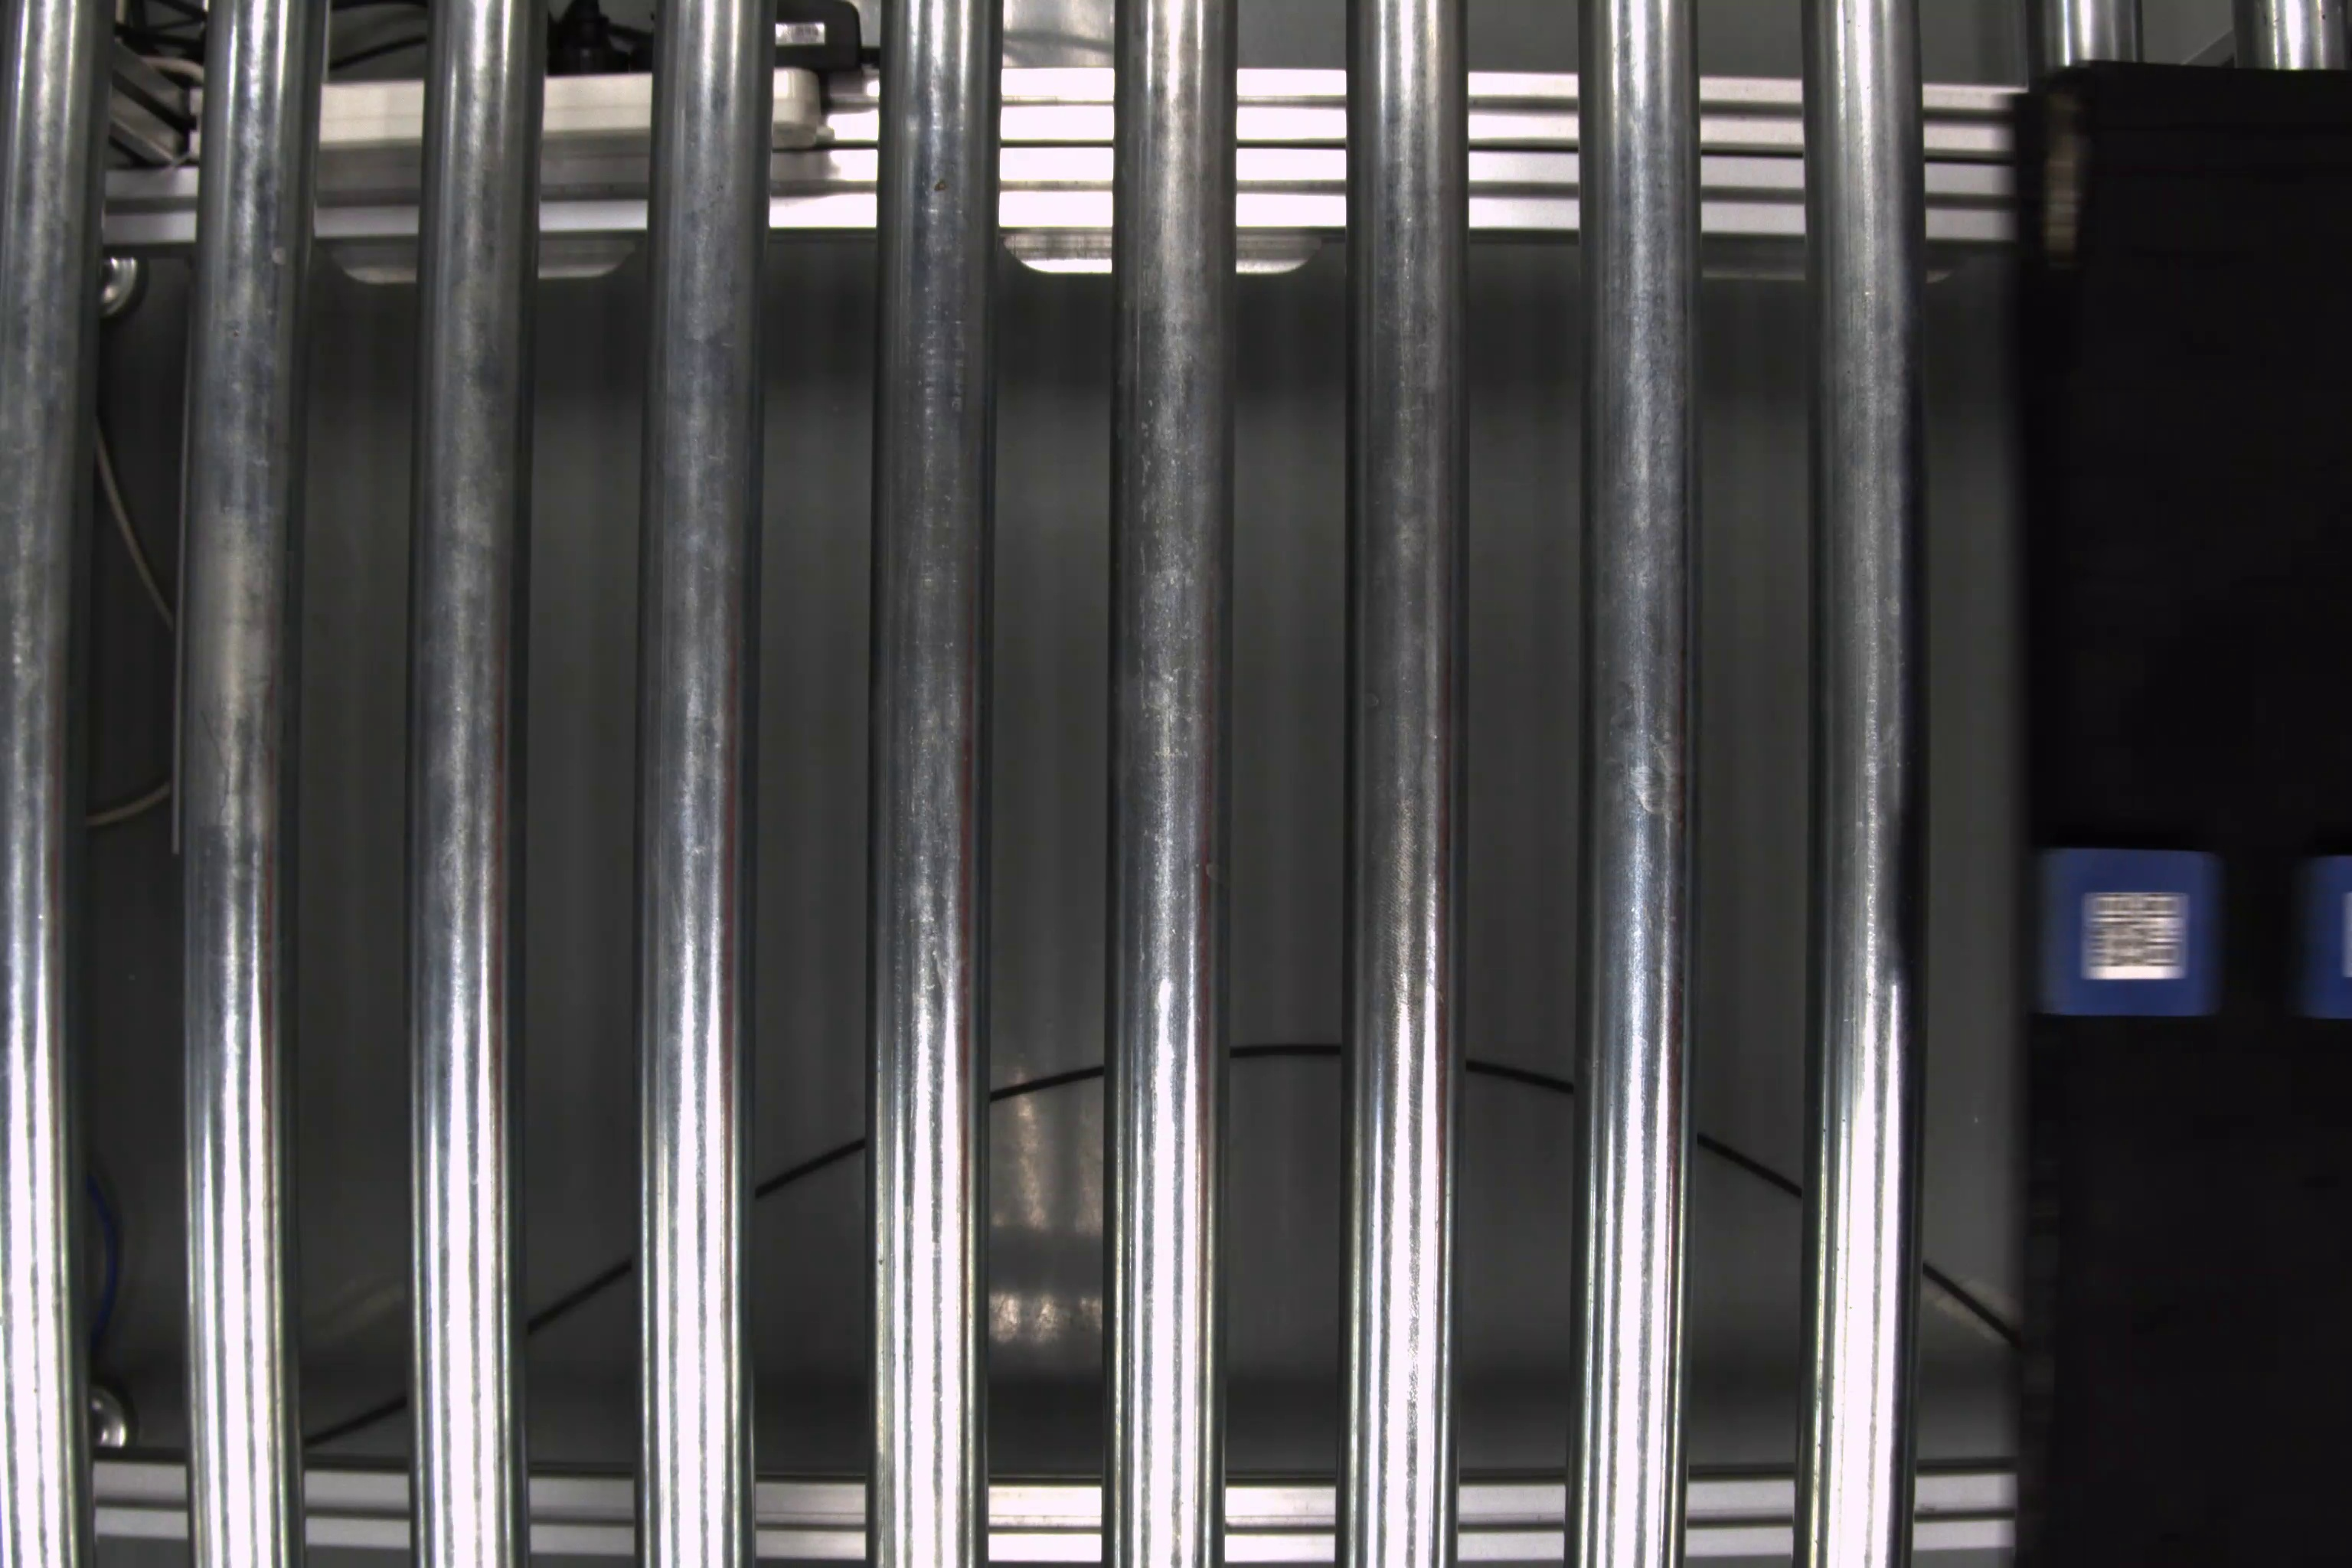wood: (2035, 842, 2226, 1025), (2296, 854, 2352, 1027)
